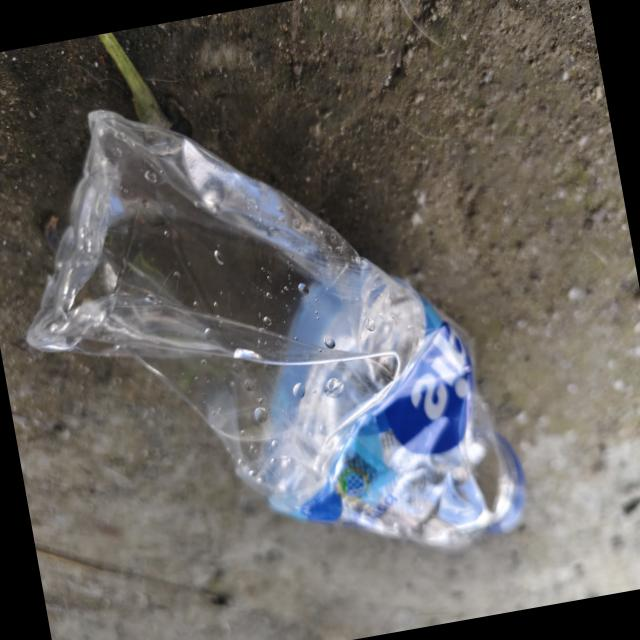Bottle: (24, 32, 529, 548)
